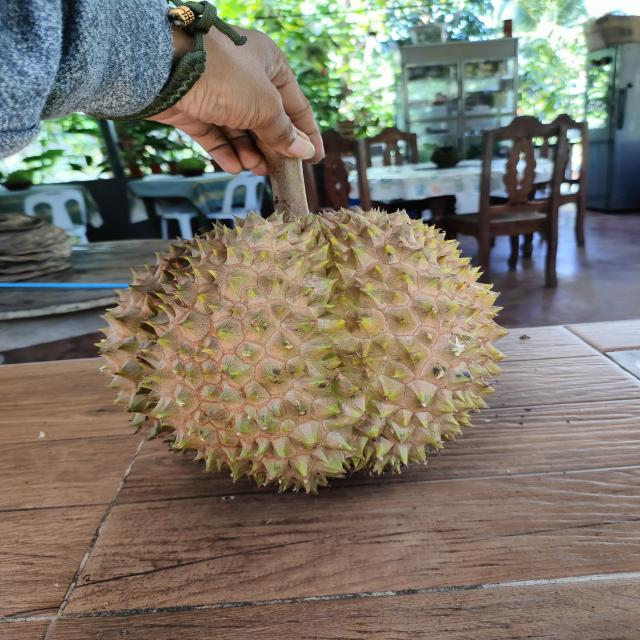mature: (93, 208, 510, 500)
